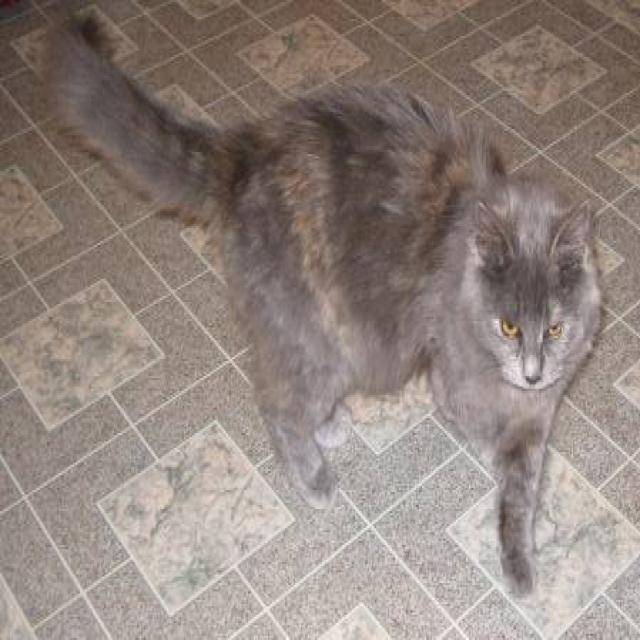cat: (38, 0, 603, 596)
